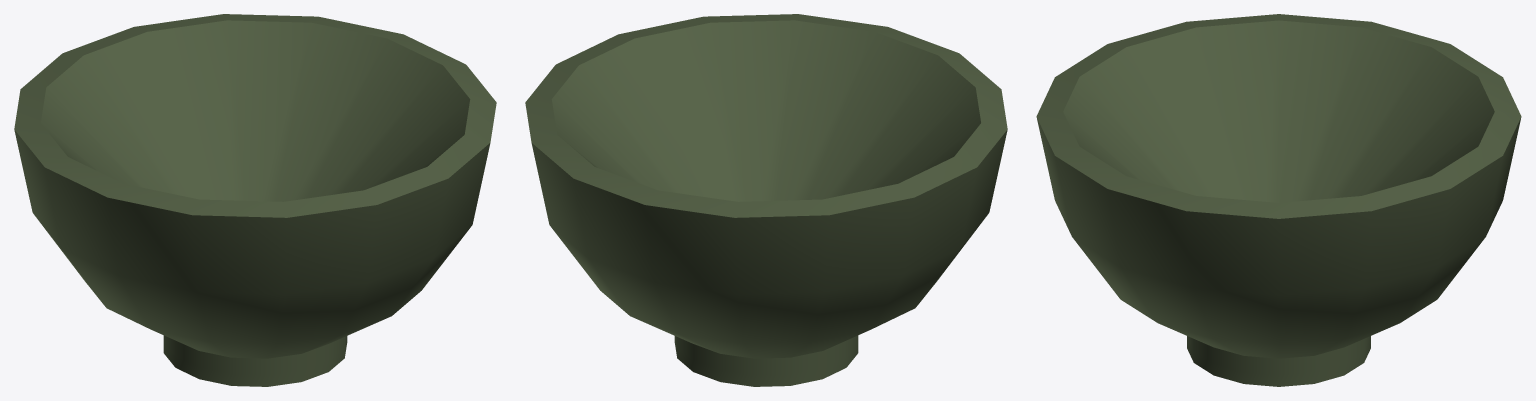
Rendered from ensaladera.glb.
The picture shows the model from 3 angles, left to right: view 1: azimuth 30°, elevation 25°; view 2: azimuth 150°, elevation 25°; view 3: azimuth 270°, elevation 25°; orthographic projection.
Visible parts, largest first — view 1: Cápsula, Cilindro; view 2: Cápsula, Cilindro; view 3: Cápsula, Cilindro.
Part boxes in pixels (bbox=[...]): Cápsula: bbox=[14, 14, 496, 358]; Cilindro: bbox=[163, 335, 347, 386]; Cápsula: bbox=[525, 14, 1007, 358]; Cilindro: bbox=[674, 335, 858, 386]; Cápsula: bbox=[1036, 14, 1521, 358]; Cilindro: bbox=[1187, 336, 1370, 386].
Bounding box in the file's own units: 1 × 0.5377 × 1.
